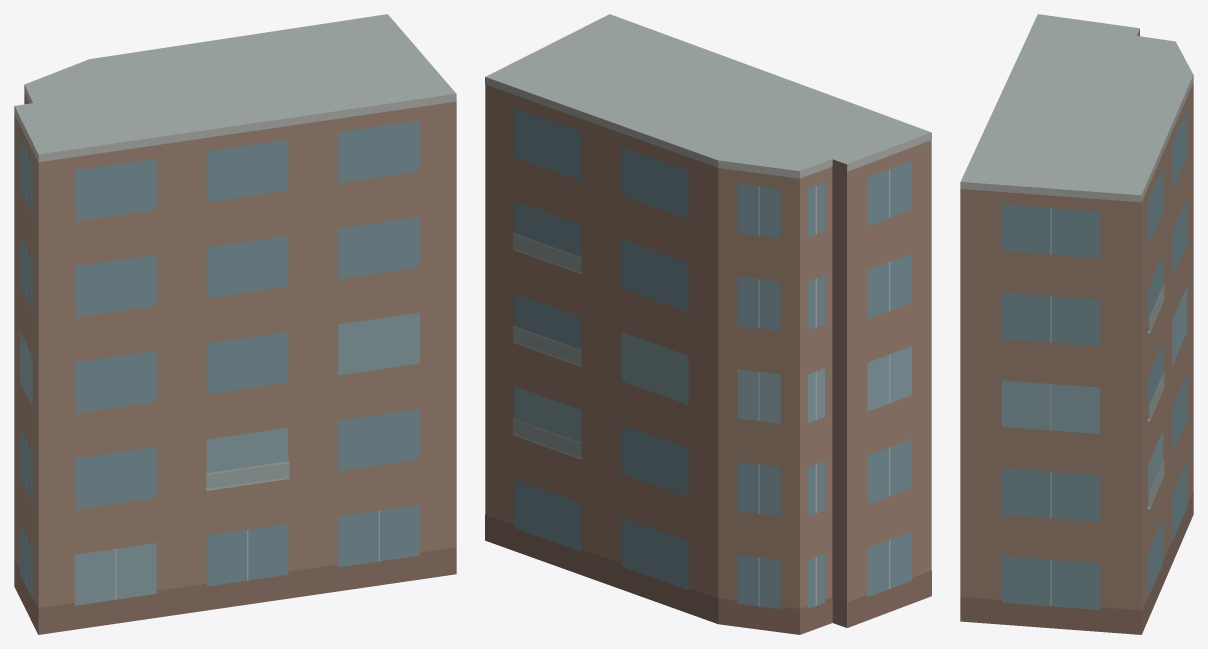
File: survey-upis-32487855.glb
3 views of the same model, side by side, from view 1: azimuth 30°, elevation 25°; view 2: azimuth 150°, elevation 25°; view 3: azimuth 270°, elevation 25° (orthographic). The views are drawn at different scales.
Parts seen in each view (by area): view 1: survey-upis-32487855.tmp; view 2: survey-upis-32487855.tmp; view 3: survey-upis-32487855.tmp.
Boxes of the visible parts, x1,y1,x2,y2 form: survey-upis-32487855.tmp: (14, 14, 456, 634); survey-upis-32487855.tmp: (485, 14, 931, 634); survey-upis-32487855.tmp: (960, 14, 1193, 634).
Size of the model in its own units: 13.45 by 15.2 by 7.32.
